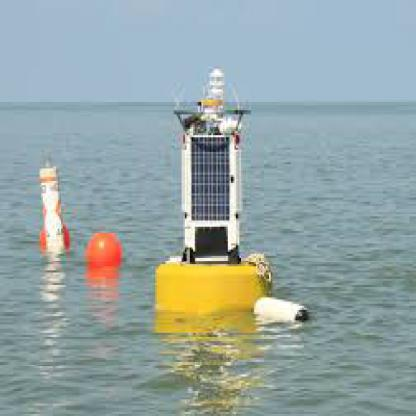buoy: (144, 60, 286, 318)
